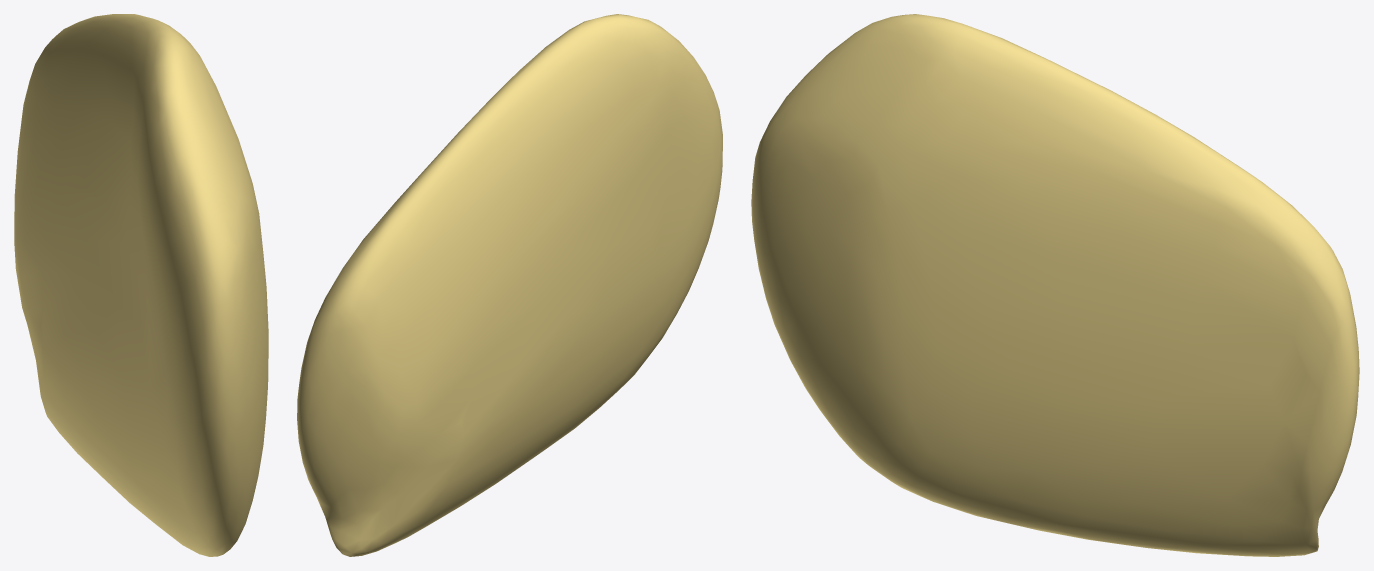
The model's file is fma73359_fj7491m.glb.
3 renders of one model, left to right at view 1: azimuth 30°, elevation 25°; view 2: azimuth 150°, elevation 25°; view 3: azimuth 270°, elevation 25°, orthographic. The views are drawn at different scales.
Parts seen in each view (by area): view 1: FMA73359_FJ7491M; view 2: FMA73359_FJ7491M; view 3: FMA73359_FJ7491M.
Boxes of the visible parts, box(x1,y1,x2,y2) form: FMA73359_FJ7491M: box(14, 14, 268, 556); FMA73359_FJ7491M: box(297, 14, 722, 556); FMA73359_FJ7491M: box(751, 14, 1359, 556).
Size of the model in its own units: 0.00397 by 0.00972 by 0.0108.
